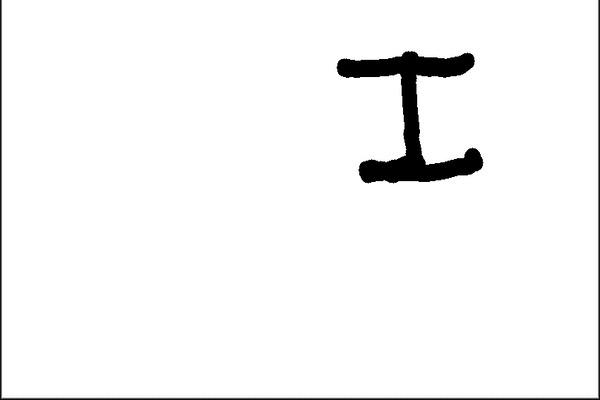i: (332, 43, 494, 191)
